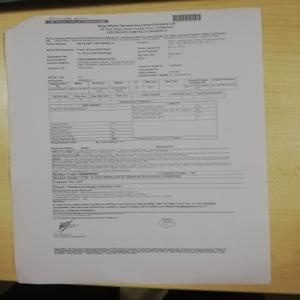table: (47, 101, 221, 144), (46, 75, 241, 89), (47, 90, 226, 101)
text: (41, 31, 233, 77), (52, 242, 227, 260)
